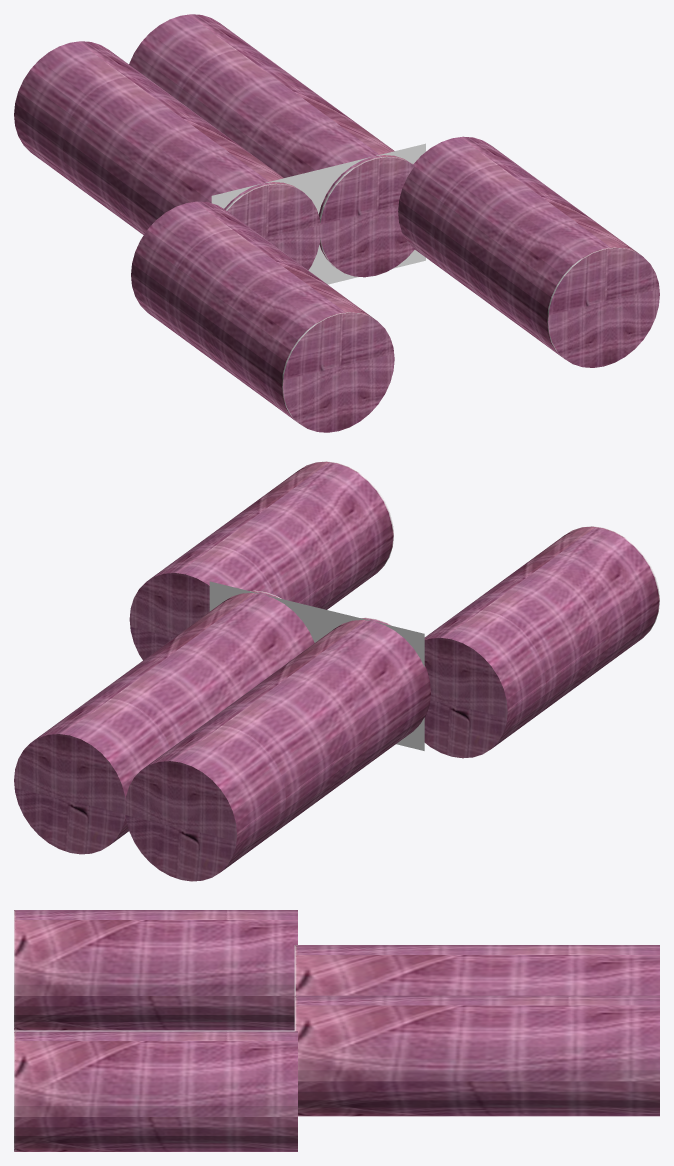
The model's file is limbs.obj.
The picture shows the model from 3 angles, top to bottom: view 1: azimuth 30°, elevation 25°; view 2: azimuth 150°, elevation 25°; view 3: azimuth 270°, elevation 25°; orthographic projection. The views are drawn at different scales.
Parts seen in each view (by area): view 1: Cylinder.002, Cylinder.003, Cylinder.006, Cylinder.005, Cube_Cube.001; view 2: Cylinder.006, Cylinder.002, Cylinder.005, Cylinder.003, Cube_Cube.001; view 3: Cylinder.005, Cylinder.003, Cylinder.002, Cylinder.006.
Boxes of the visible parts, <box> form: Cylinder.002: <box>131,201,394,432</box>; Cylinder.003: <box>398,136,659,367</box>; Cylinder.006: <box>14,41,320,270</box>; Cylinder.005: <box>129,14,414,277</box>; Cube_Cube.001: <box>211,143,425,284</box>; Cylinder.006: <box>125,617,430,881</box>; Cylinder.002: <box>424,526,659,758</box>; Cylinder.005: <box>14,590,314,854</box>; Cylinder.003: <box>129,461,393,660</box>; Cube_Cube.001: <box>209,581,424,750</box>; Cylinder.005: <box>294,995,659,1116</box>; Cylinder.003: <box>14,1031,297,1151</box>; Cylinder.002: <box>14,910,297,1030</box>; Cylinder.006: <box>294,945,659,995</box>.
Size of the model in its own units: 6.74 by 2 by 10.69.
Materials: 2 (2 with a texture image).
